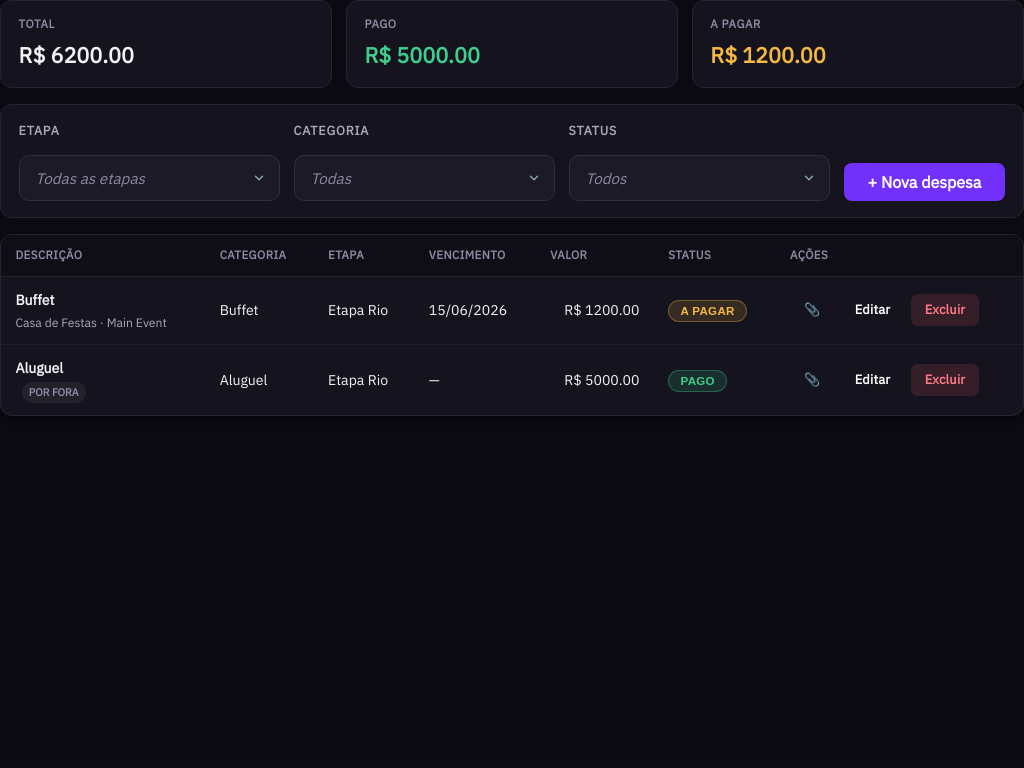
Test: criação › cancelar fecha sem gravar
Expected: the row that starts with "Buffet" is shown, [1,276,1023,345]
Click the button "+ Nova despesa".
click(924, 182)  # box [844,163,1005,201]
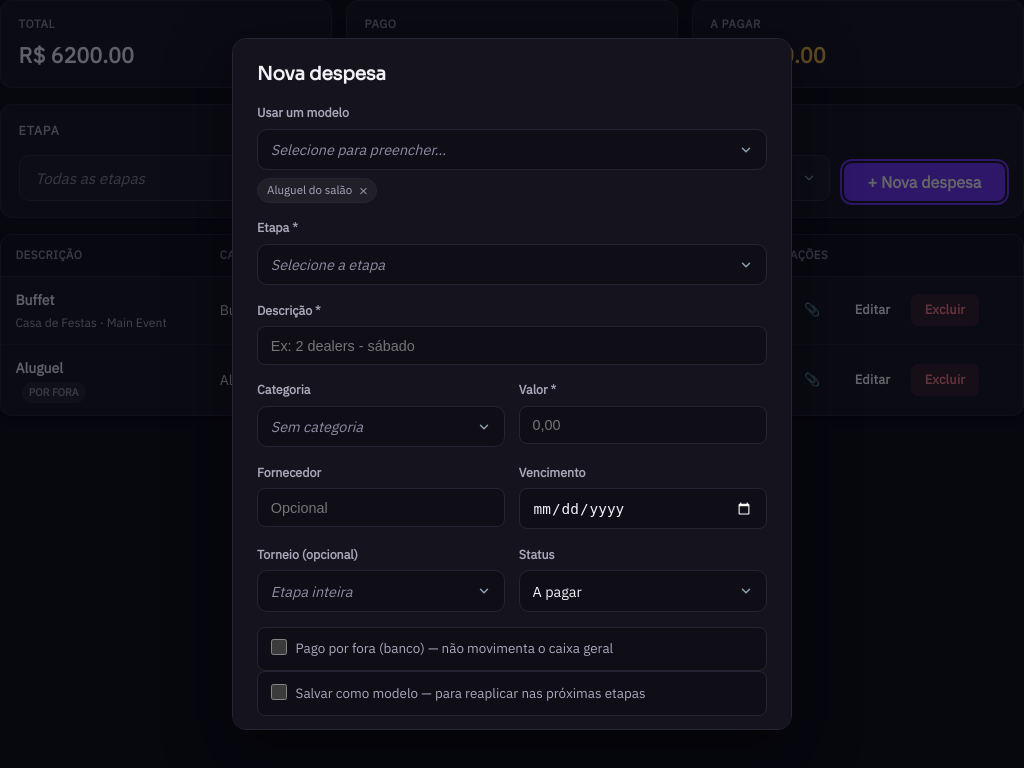
Click the element with class "exp-modal-overlay".
click(61, 384)  # box [0,0,1023,767]
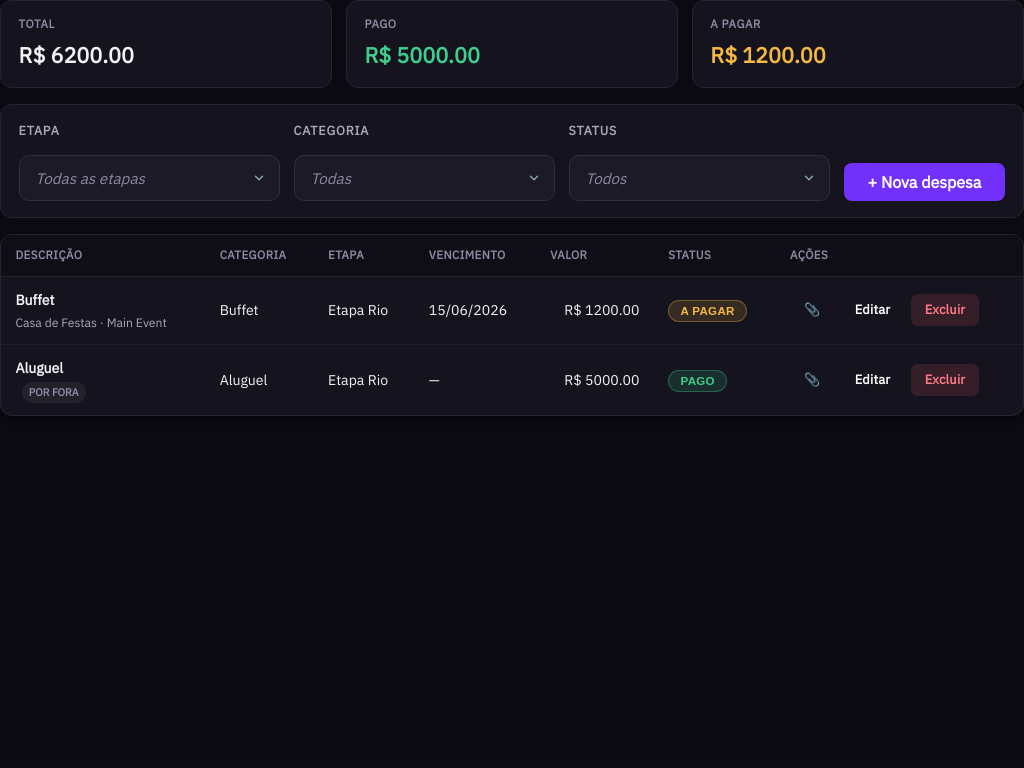
Result: the dialog with class "exp-modal" is gone
